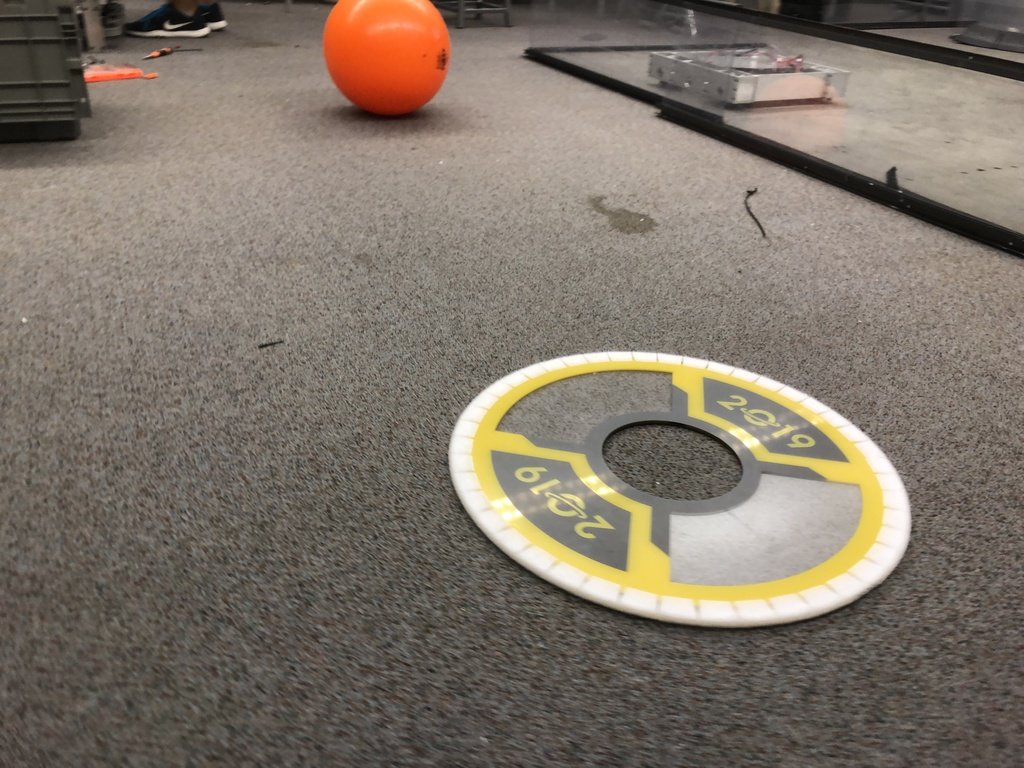hatch_panel: (436, 336, 932, 638)
